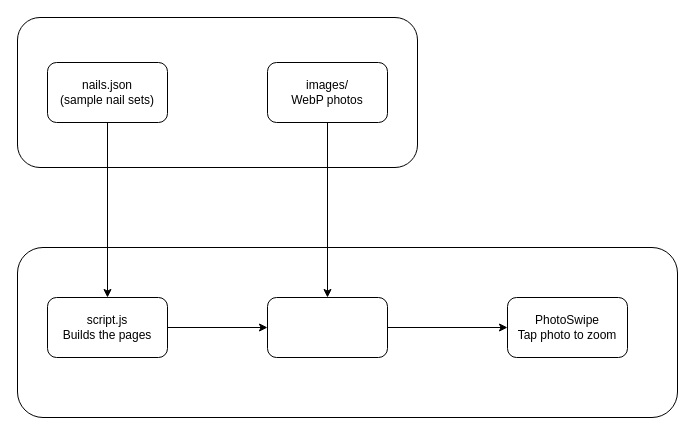
Image size: 695x435. Some labels were removed from this diagram. The shapes that lost their labels are listed below. From the top down, each one's box as (x1, y1, x2, y2) in pixels, then its label:
(16, 16, 418, 168): Data
(266, 296, 388, 358): StPageFlip Flip-book effect
